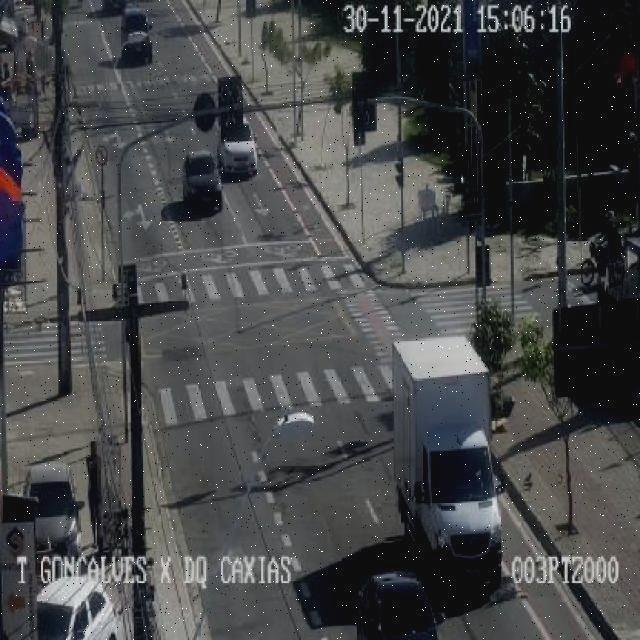Car: (17, 461, 83, 568), (29, 567, 120, 639), (178, 150, 233, 214), (214, 119, 261, 172), (118, 10, 160, 69)
Truck: (382, 330, 511, 576)
